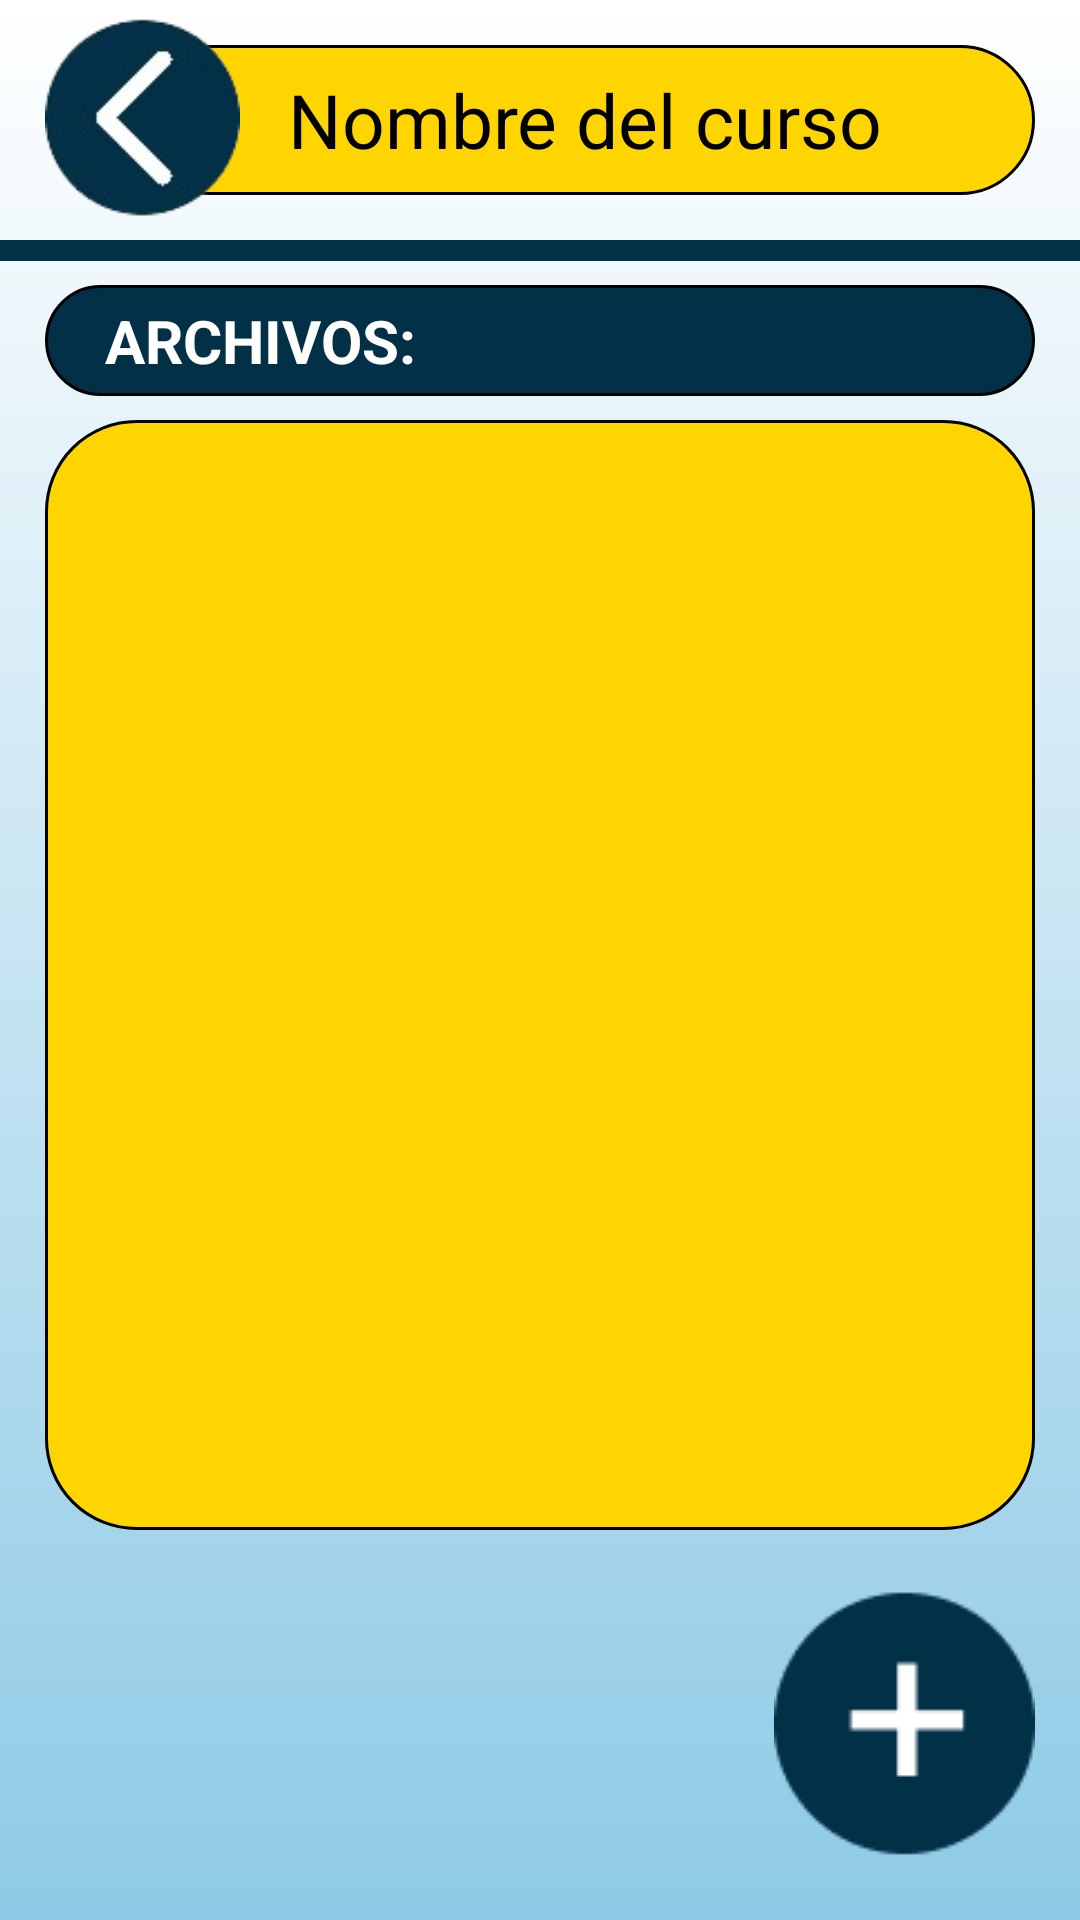

Icon click points for this 1080 x 1920 phone screenshot, format [x,y]:
back: [120,120]
mas: [904,1723]
